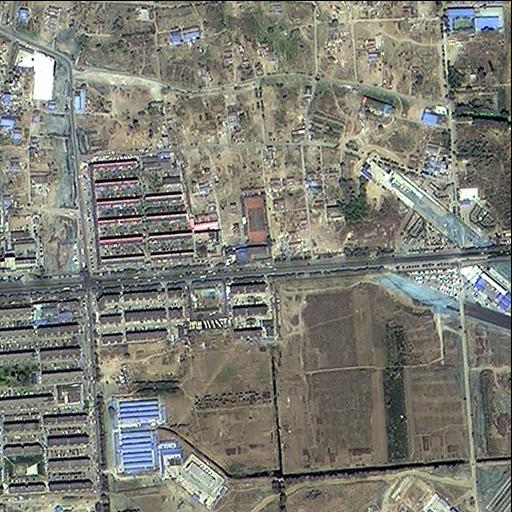school: (224, 188, 271, 267)
